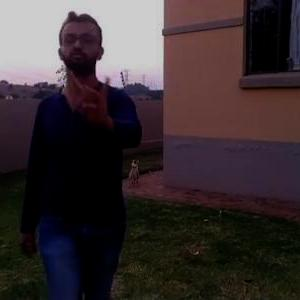takeoff-hand: (63, 66, 117, 129)
